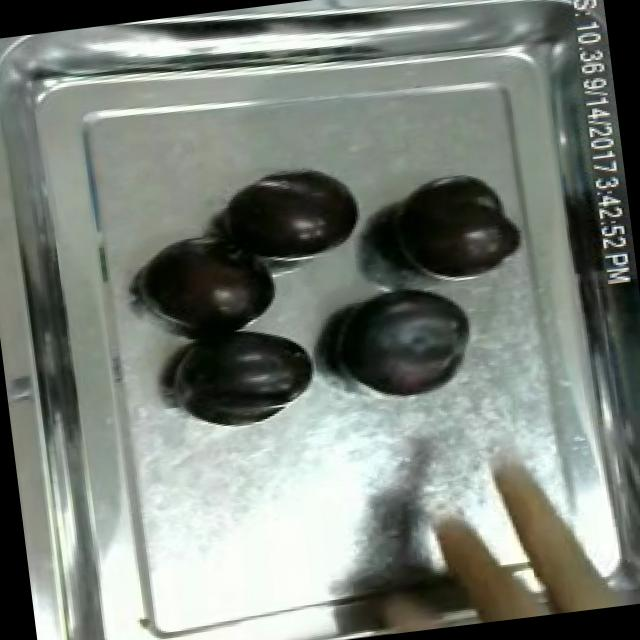Fruit: (317, 276, 484, 410), (380, 166, 524, 286), (170, 317, 324, 428), (215, 158, 369, 269), (138, 225, 285, 341)
